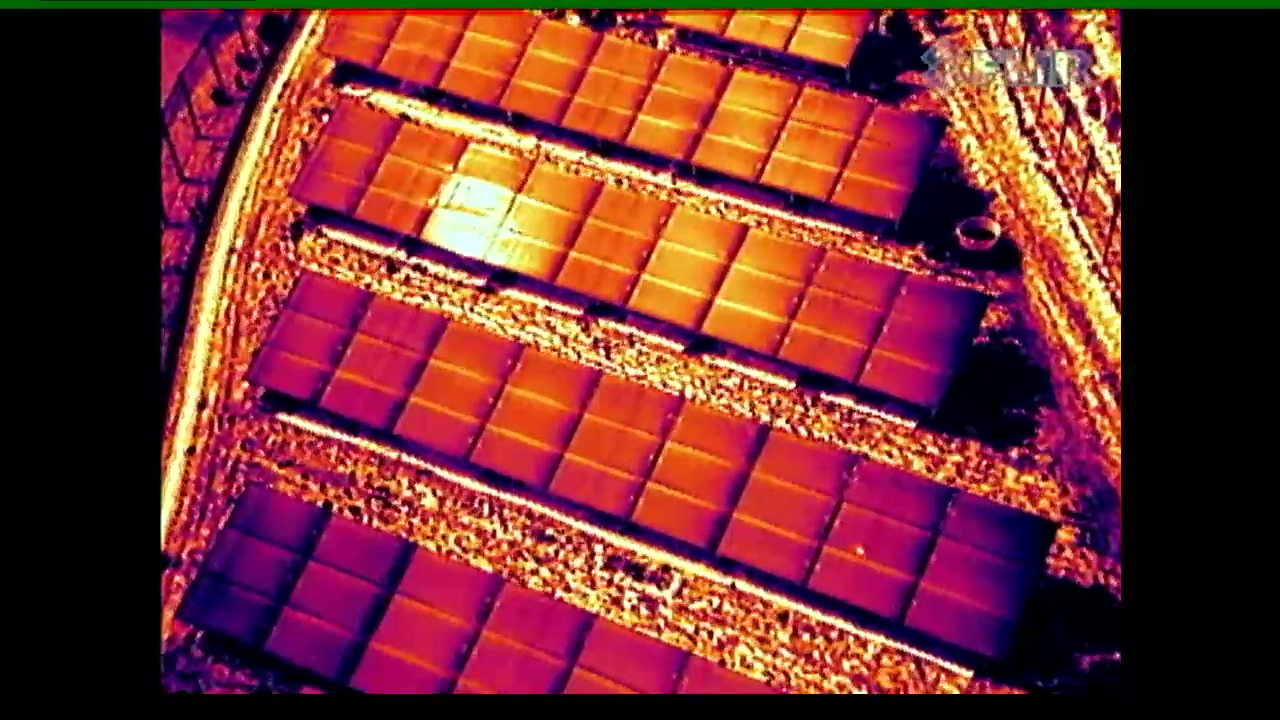hotspot: (805, 456, 956, 623)
